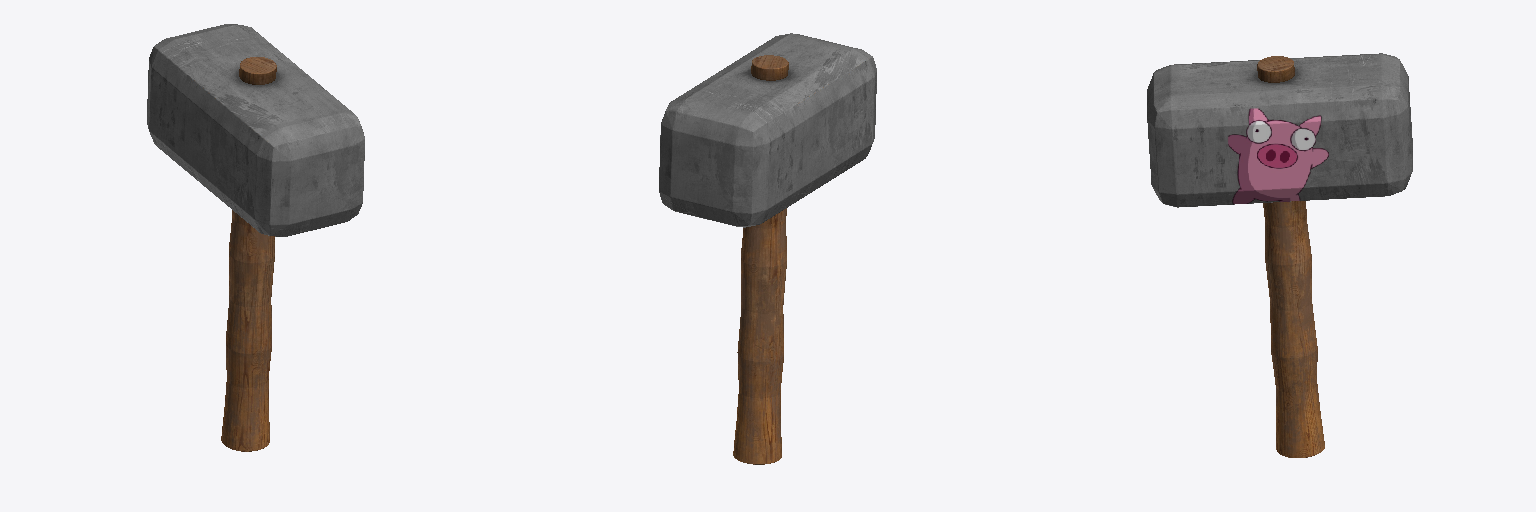
3 views of the same model, side by side, from view 1: azimuth 30°, elevation 25°; view 2: azimuth 150°, elevation 25°; view 3: azimuth 270°, elevation 25° (orthographic).
Parts seen in each view (by area): view 1: defaultMaterial.001; view 2: defaultMaterial.001; view 3: defaultMaterial.001.
Part boxes in pixels (bbox=[...]): defaultMaterial.001: bbox=[147, 24, 364, 451]; defaultMaterial.001: bbox=[659, 33, 876, 464]; defaultMaterial.001: bbox=[1147, 53, 1412, 457].
Bounding box in the file's own units: 0.4468 × 1.56 × 0.9682.
Materials: 1 (1 with a texture image).